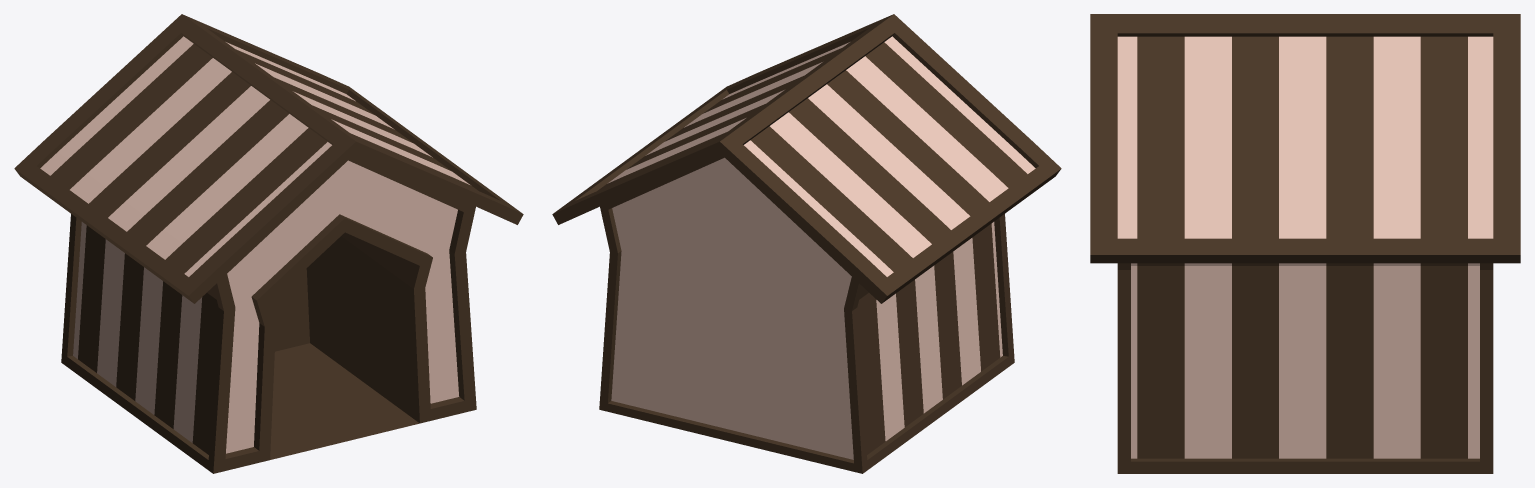
File: itKulube.fbx
The picture shows the model from 3 angles, left to right: view 1: azimuth 30°, elevation 25°; view 2: azimuth 150°, elevation 25°; view 3: azimuth 270°, elevation 25°; orthographic projection. The views are drawn at different scales.
Visible parts, largest first — view 1: Cube.004; view 2: Cube.004; view 3: Cube.004.
Boxes of the visible parts, x1,y1,x2,y2 form: Cube.004: (14, 14, 523, 473); Cube.004: (552, 14, 1061, 473); Cube.004: (1090, 14, 1520, 473).
Size of the model in its own units: 214 by 189 by 193.
